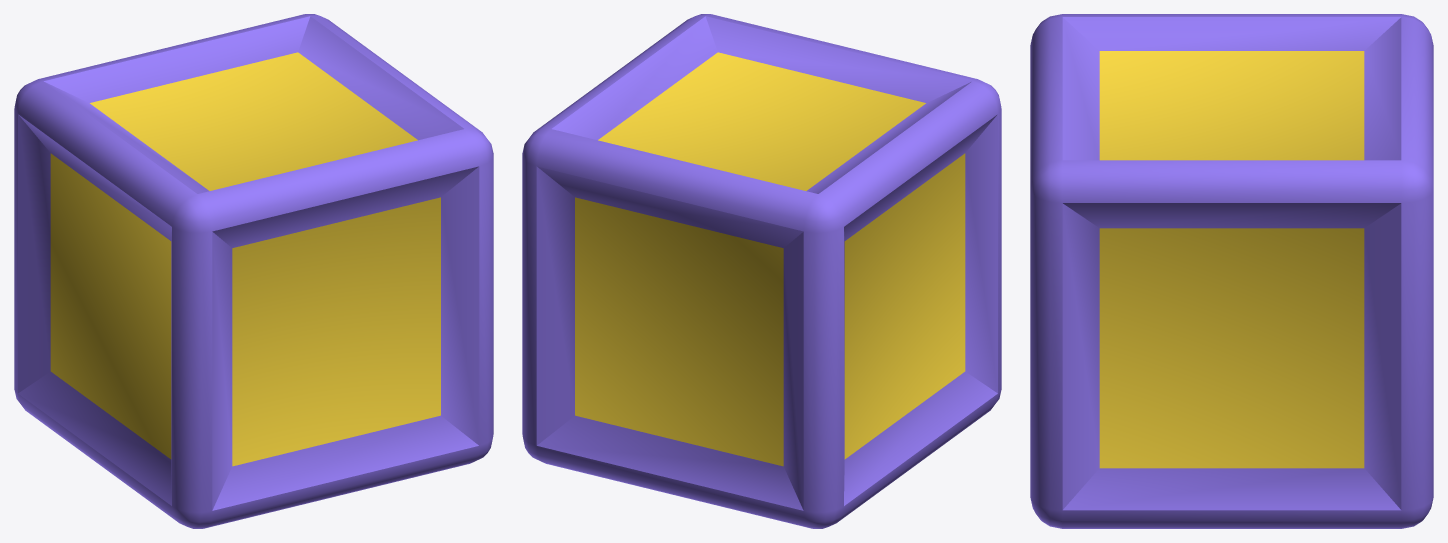
Rendered from SM_PushBlock.fbx.
3 renders of one model, left to right at view 1: azimuth 30°, elevation 25°; view 2: azimuth 150°, elevation 25°; view 3: azimuth 270°, elevation 25°, orthographic. The views are drawn at different scales.
Parts seen in each view (by area): view 1: SM_PushBlock; view 2: SM_PushBlock; view 3: SM_PushBlock.
Part boxes in pixels (x1,y1,x2,y2): SM_PushBlock: (14, 14, 493, 528); SM_PushBlock: (522, 14, 1001, 528); SM_PushBlock: (1030, 14, 1433, 528).
Size of the model in its own units: 1 by 1 by 1.
